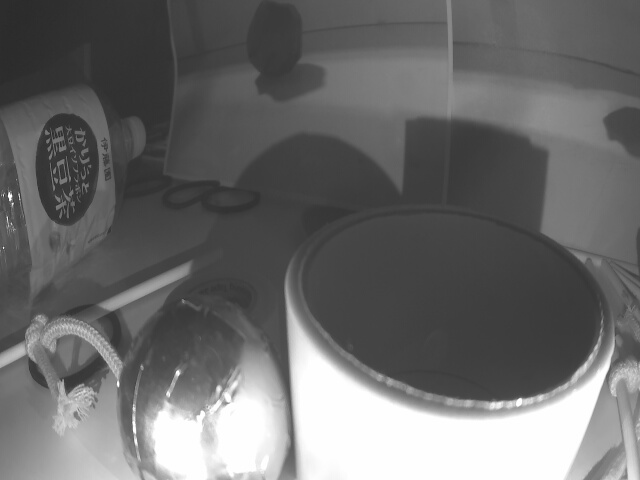Live: (115, 284, 284, 480)
